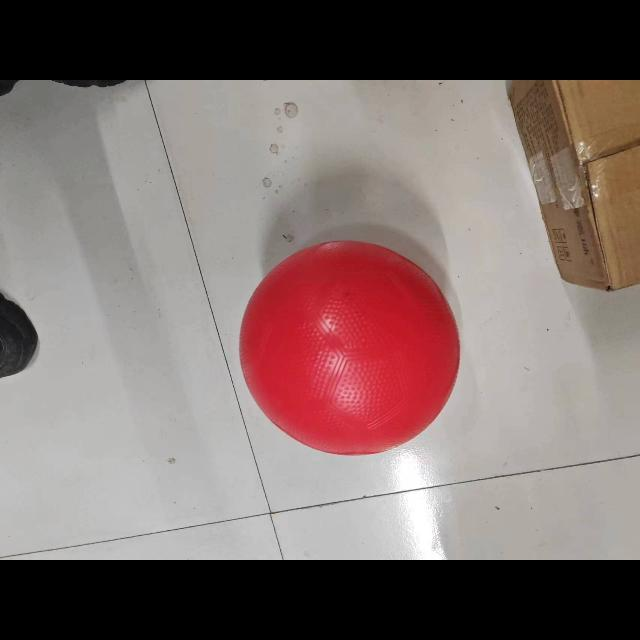R: (233, 239, 467, 461)
